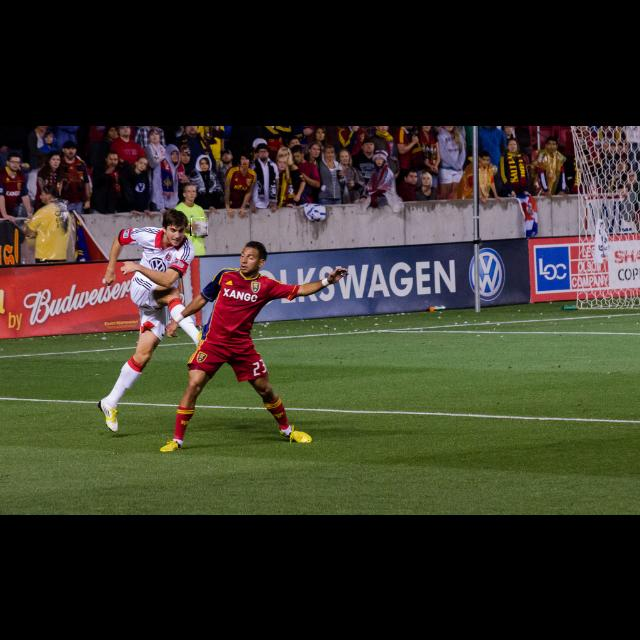Football: (190, 218, 208, 236)
